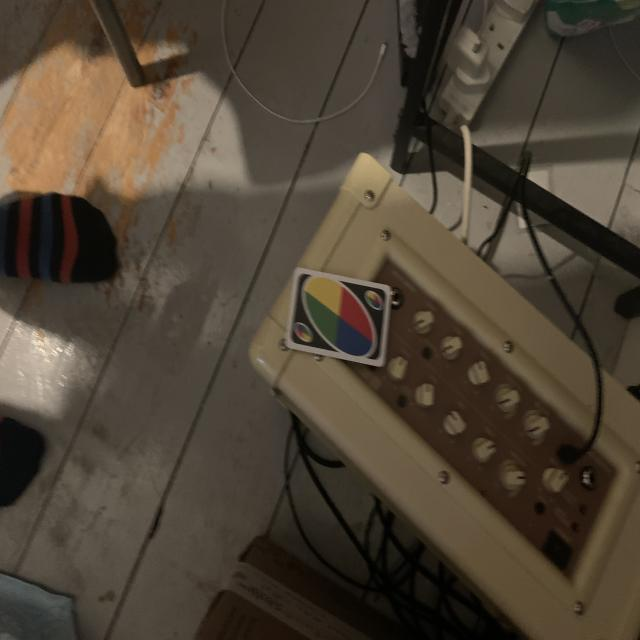lcolor-40: (360, 285, 387, 313)
